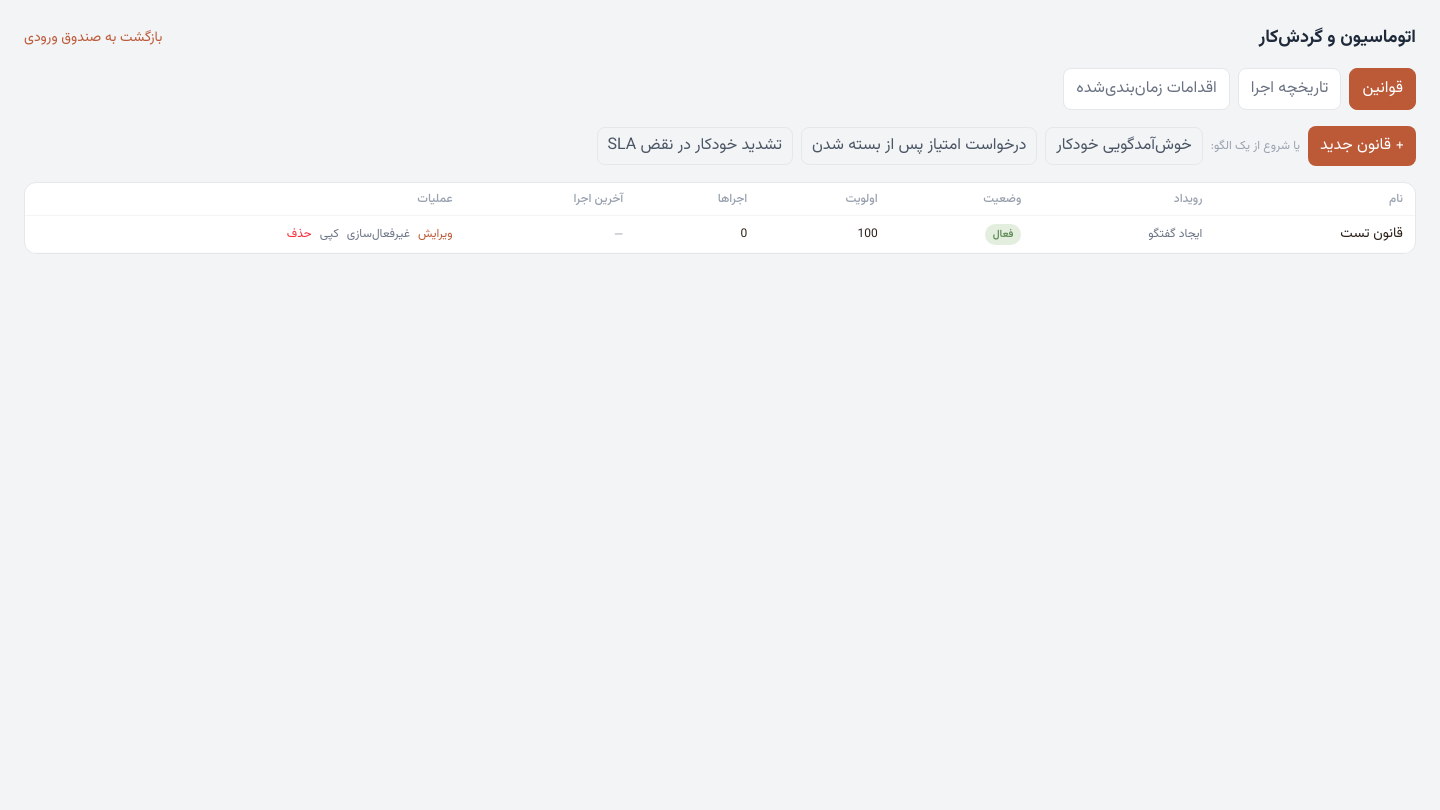
Test: Automations page › simulate runs a dry-run and shows the match result without saving
expect the text "قانون تست" is shown: met, box [1214, 216, 1415, 252]
What coordinates should you click on to do the following:
click the button "ویرایش"
I would click on:
 (435, 234)
Its box is [418, 226, 453, 242].
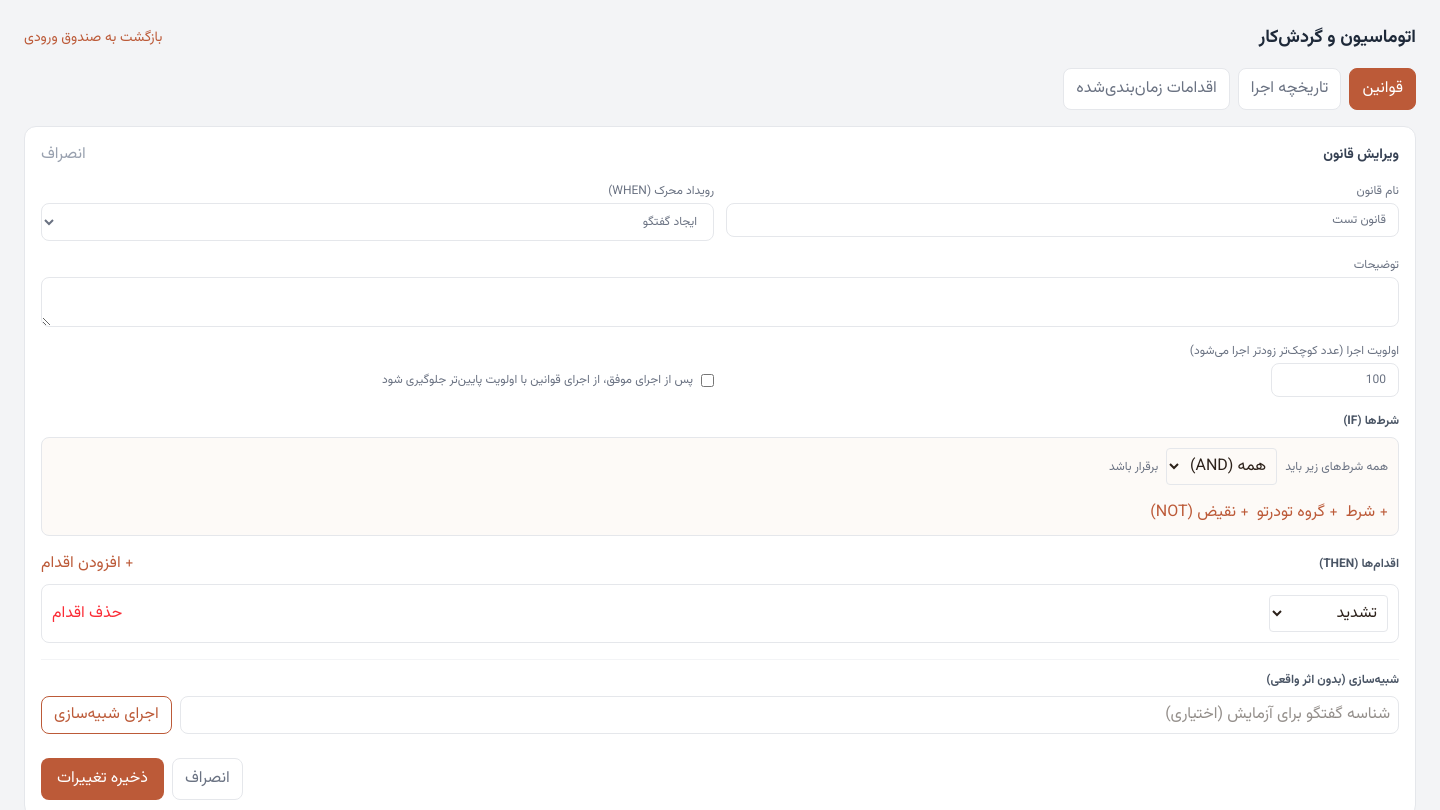
What coordinates should you click on to do the following:
click the button "اجرای شبیه‌سازی"
I would click on:
 (106, 715)
Its box is [41, 696, 172, 734].
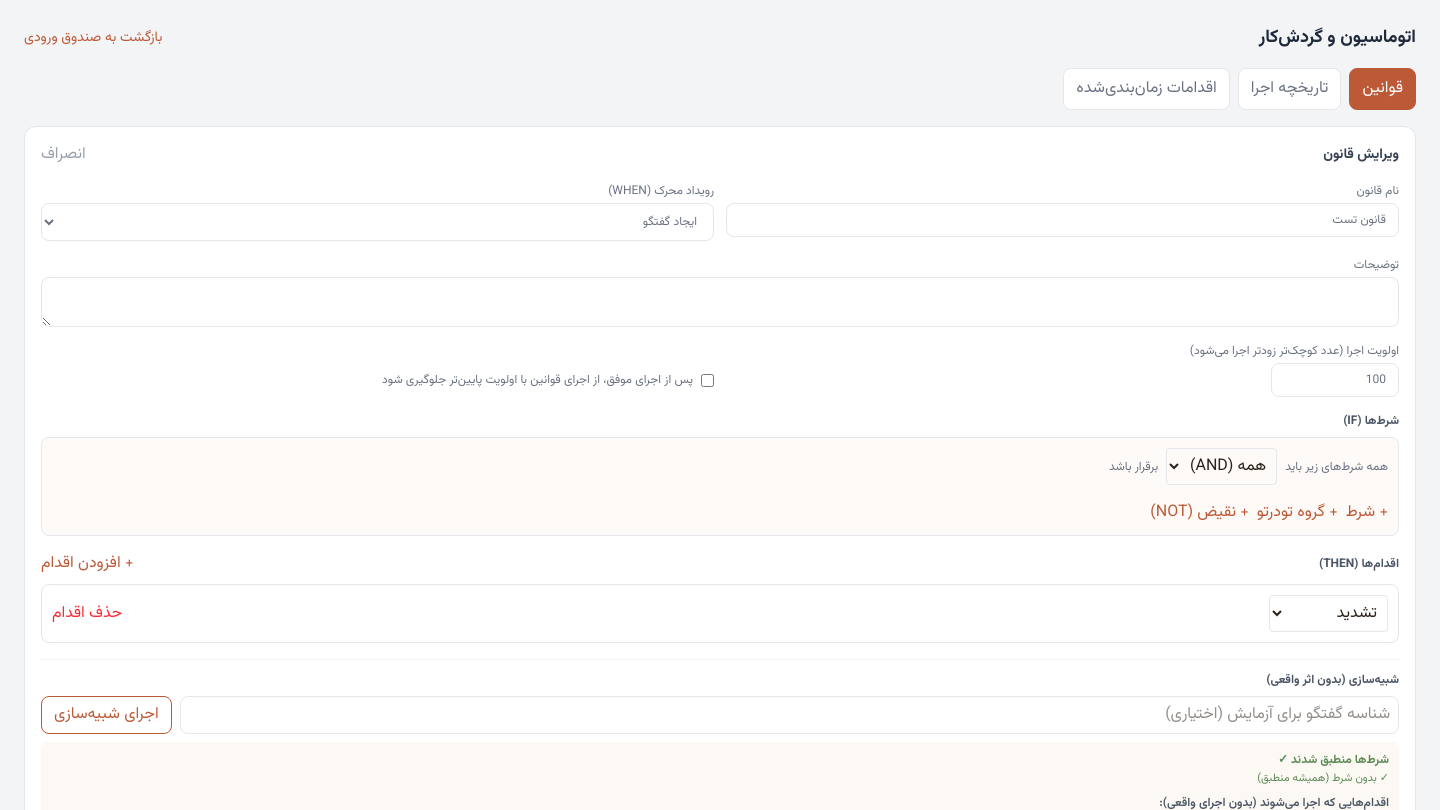
expect the text "شرط‌ها منطبق شدند ✓" is shown: met, box [1278, 751, 1389, 769]
